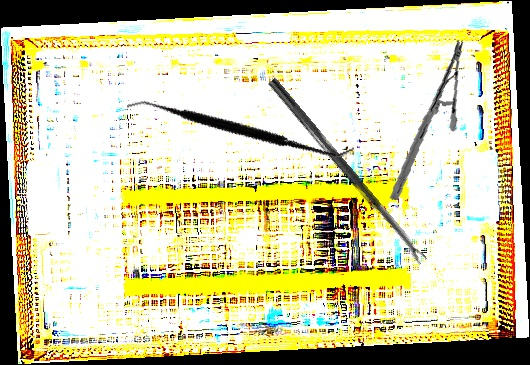Needle Holder: (373, 39, 482, 201)
Spatula Surgical: (125, 39, 356, 216)
Surgical Spoon: (266, 77, 428, 266)
